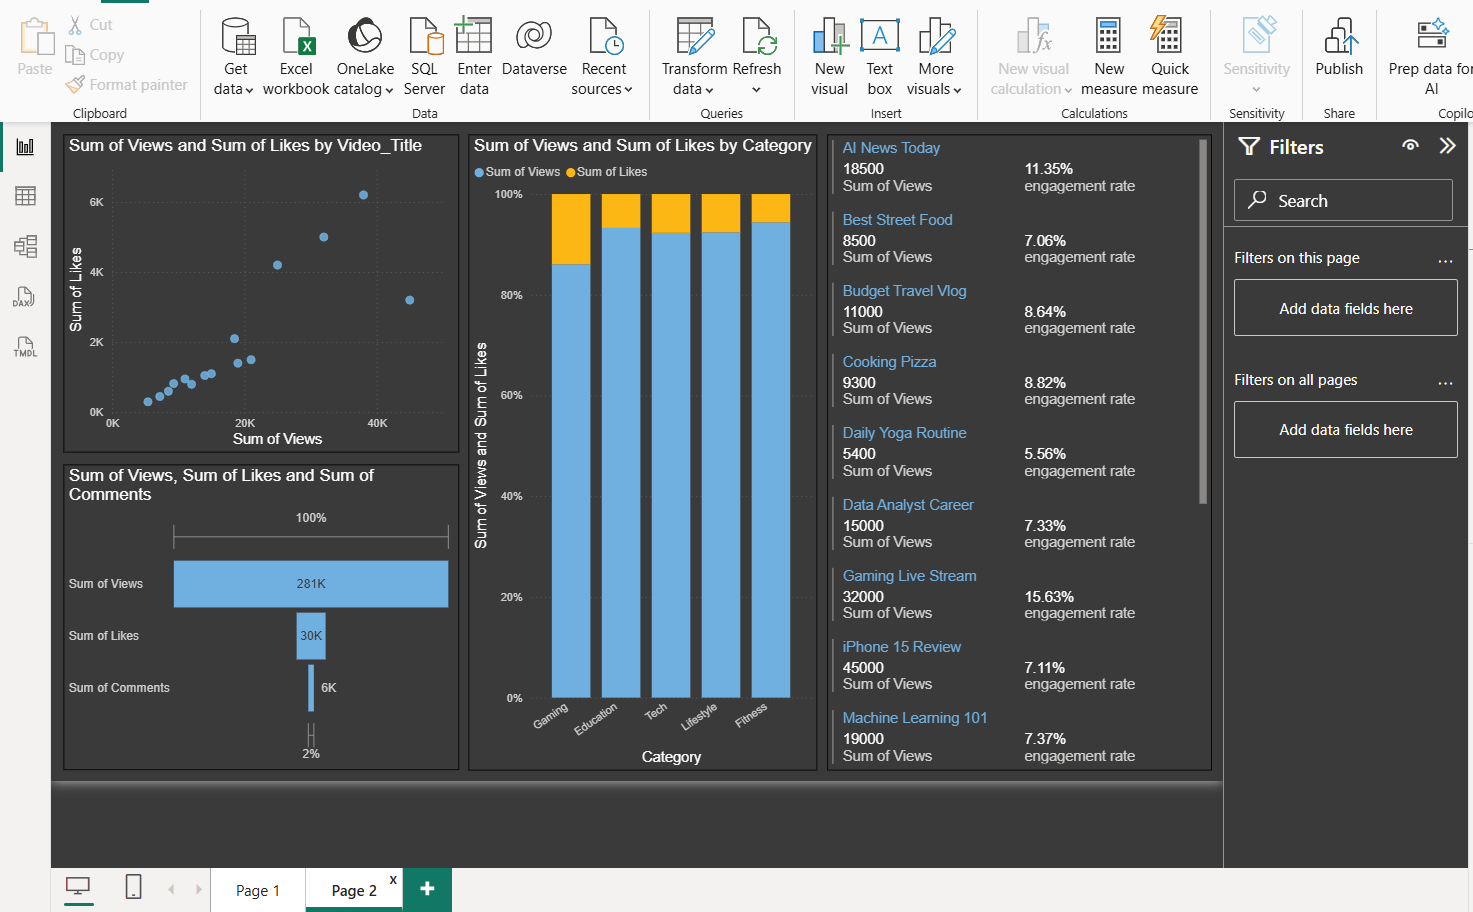

The page's visual inventory and layout, read from the dashboard file:
{"tool":"powerbi","page":{"name":"Page 2","canvas":[1280,720],"ordinal":1},"visuals":[{"type":"scatterChart","fields":{"X":["Sum(YouTube Dashboard Sheet.Views)"],"Y":["Sum(YouTube Dashboard Sheet.Likes)"],"Category":["YouTube Dashboard Sheet.Video_Title"]},"box":[13.5,13.5,431.6,347.3],"z":0},{"type":"funnel","fields":{"Y":["Sum(YouTube Dashboard Sheet.Views)","Sum(YouTube Dashboard Sheet.Likes)","Sum(YouTube Dashboard Sheet.Comments)"]},"box":[13.5,374.3,431.6,333.8],"z":1},{"type":"hundredPercentStackedColumnChart","fields":{"Category":["YouTube Dashboard Sheet.Category"],"Y":["Sum(YouTube Dashboard Sheet.Views)","Sum(YouTube Dashboard Sheet.Likes)"]},"box":[455.2,13.5,381,694.6],"z":2},{"type":"multiRowCard","fields":{"Values":["YouTube Dashboard Sheet.Video_Title","Sum(YouTube Dashboard Sheet.Views)","YouTube Dashboard Sheet.engagement rate"]},"box":[848.2,13.4,419.9,694.3],"z":3}]}

Visuals, with their boxes on the page's 1280x720 design canvas (x1, y1, x2, y2). These are canvas units, not pixel positions in the 1473x912 screenshot, which may show the page scaled, cropped or inside an application window:
scatterChart - Sum(YouTube Dashboard Sheet.Views) x Sum(YouTube Dashboard Sheet.Likes): [14,14,445,361]
funnel - Sum(YouTube Dashboard Sheet.Views) x Sum(YouTube Dashboard Sheet.Likes): [14,374,445,708]
hundredPercentStackedColumnChart - YouTube Dashboard Sheet.Category x Sum(YouTube Dashboard Sheet.Views): [455,14,836,708]
multiRowCard - YouTube Dashboard Sheet.Video_Title x Sum(YouTube Dashboard Sheet.Views): [848,13,1268,708]
